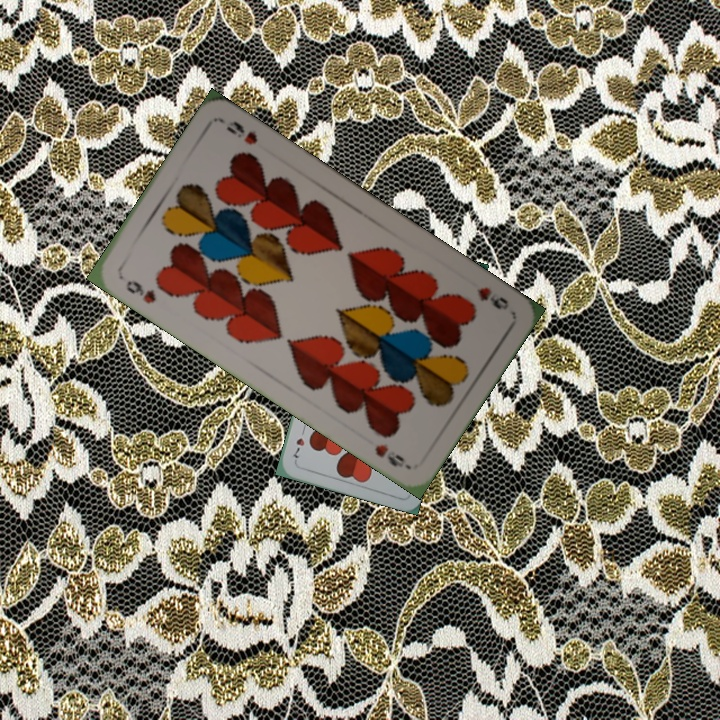H9: (472, 283, 512, 313), (121, 276, 159, 307)
